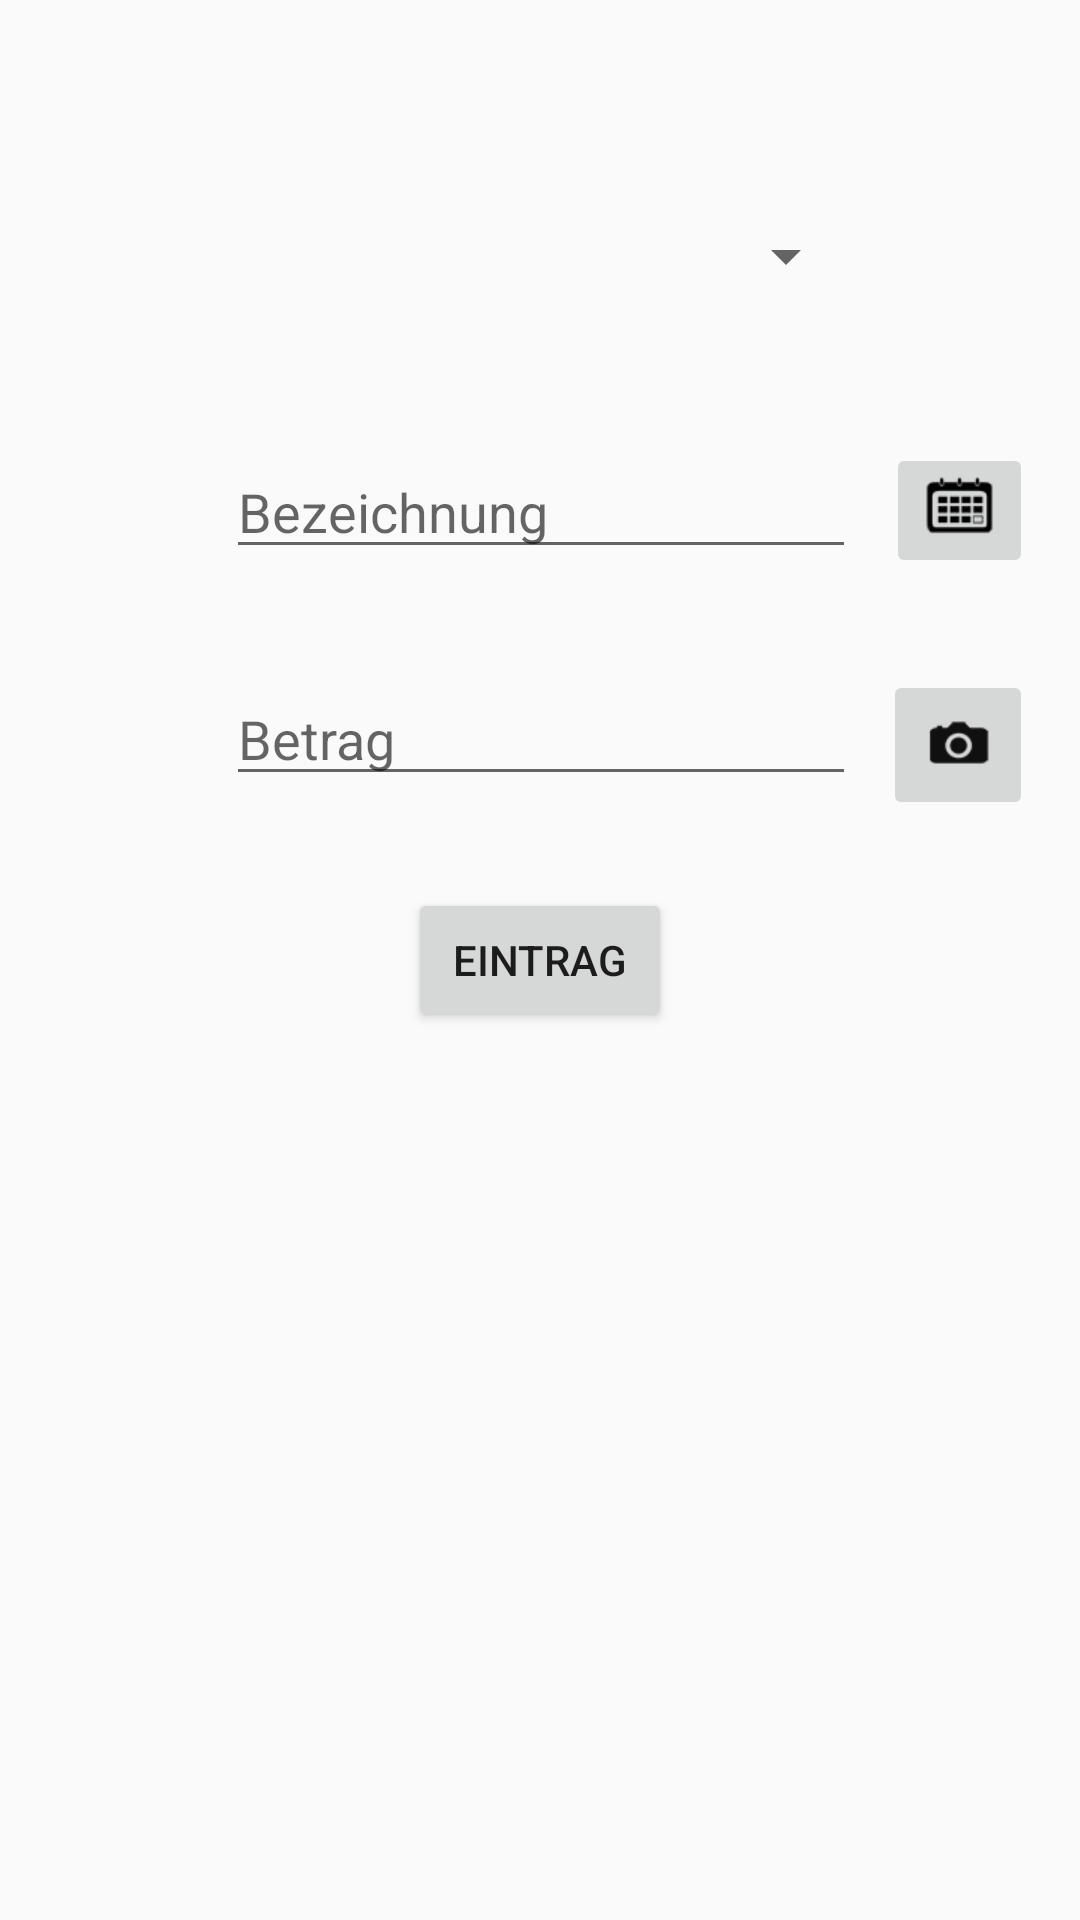

Locate icon controls on the screen. Image size 1080×1920, boxes as (x1, y1, x2, y2).
cameraicon: (895, 688, 1021, 802)
kalendericon: (898, 461, 1021, 560)
